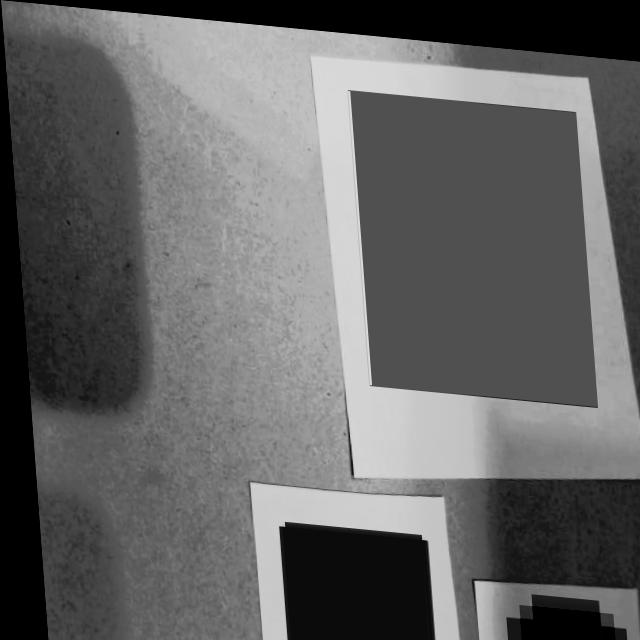qr_code: (346, 84, 591, 395), (273, 518, 424, 640), (510, 595, 608, 640)
